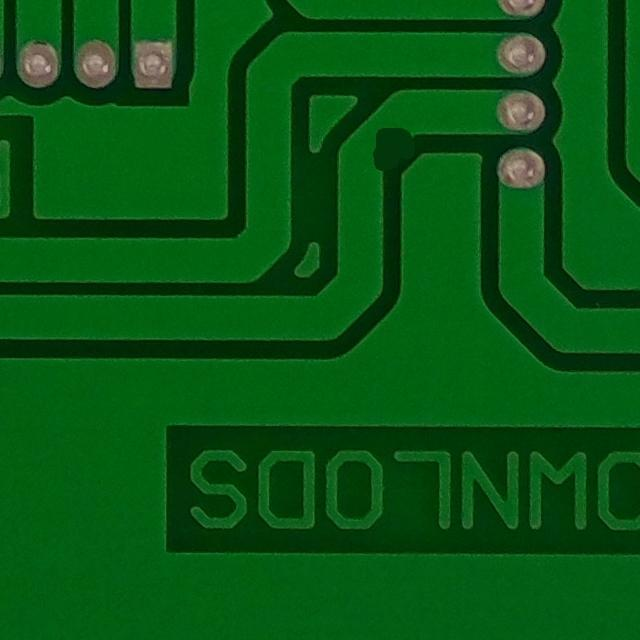mouse_bite: (353, 115, 433, 182)
